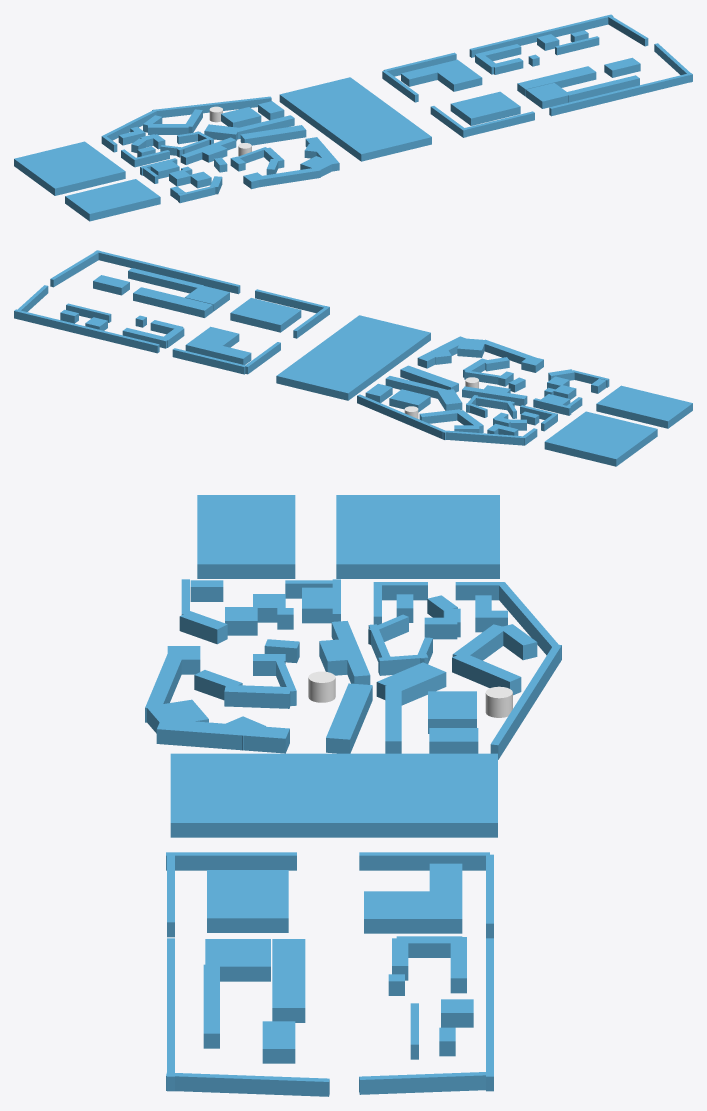
File: Buildings.fbx
3 renders of one model, top to bottom at view 1: azimuth 30°, elevation 25°; view 2: azimuth 150°, elevation 25°; view 3: azimuth 270°, elevation 25°, orthographic. The views are drawn at different scales.
Visible parts, largest first — view 1: Cube__6_, Cube__16_, Cube__10_, Cube__25_, Cube__35_, Cube__32_, Cube__41_, Cube__5_, Cube__55_, Cube__39_, Cube__21_, Cube__42_ (+24 smaller); view 2: Cube__6_, Cube__16_, Cube__10_, Cube__25_, Cube__32_, Cube__35_, Cube__41_, Cube__5_, Cube__7_, Cube__39_, Cube__15_, Cube__30_ (+20 smaller); view 3: Cube__6_, Cube__16_, Cube__10_, Cube__25_, Cube__59_, Cube__34_, Cube__21_, Cube__41_, Cube__42_, Cube__29_, Cube__7_, Cube__31_ (+25 smaller).
Part boxes in pixels (bbox=[...]): Cube__6_: bbox=[279, 77, 431, 161]; Cube__16_: bbox=[14, 141, 125, 195]; Cube__10_: bbox=[65, 179, 160, 221]; Cube__25_: bbox=[450, 91, 520, 125]; Cube__35_: bbox=[549, 73, 692, 116]; Cube__32_: bbox=[469, 14, 613, 57]; Cube__41_: bbox=[517, 66, 596, 96]; Cube__5_: bbox=[152, 96, 271, 117]; Cube__55_: bbox=[240, 125, 306, 145]; Cube__39_: bbox=[565, 75, 639, 102]; Cube__21_: bbox=[437, 65, 482, 91]; Cube__42_: bbox=[526, 83, 568, 108]; Cube__6_: bbox=[276, 315, 430, 400]; Cube__16_: bbox=[544, 411, 657, 466]; Cube__10_: bbox=[596, 385, 692, 428]; Cube__25_: bbox=[230, 298, 301, 332]; Cube__32_: bbox=[14, 309, 159, 353]; Cube__35_: bbox=[95, 250, 240, 294]; Cube__41_: bbox=[133, 287, 212, 317]; Cube__5_: bbox=[357, 394, 447, 439]; Cube__7_: bbox=[185, 339, 251, 364]; Cube__39_: bbox=[128, 268, 203, 293]; Cube__15_: bbox=[442, 430, 524, 445]; Cube__30_: bbox=[172, 348, 245, 374]; Cube__6_: bbox=[170, 753, 497, 837]; Cube__16_: bbox=[336, 495, 499, 578]; Cube__10_: bbox=[197, 495, 295, 578]; Cube__25_: bbox=[207, 870, 288, 932]; Cube__59_: bbox=[156, 719, 289, 753]; Cube__34_: bbox=[166, 1072, 329, 1096]; Cube__21_: bbox=[364, 891, 429, 933]; Cube__41_: bbox=[272, 939, 305, 1022]; Cube__42_: bbox=[205, 939, 270, 981]; Cube__29_: bbox=[359, 1071, 489, 1094]; Cube__7_: bbox=[429, 863, 462, 933]; Cube__31_: bbox=[166, 852, 296, 870].
Bounding box in the file's own units: 25465 × 400 × 7644.
